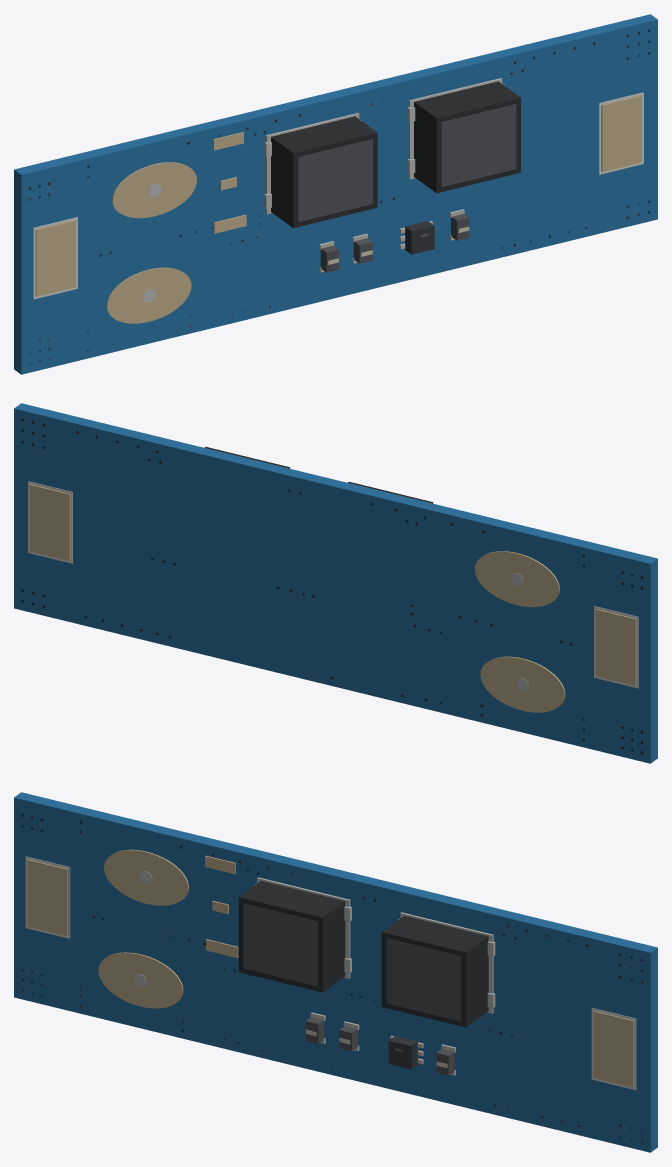
The model's file is HXYP-1S-4012A_Replica_Blender_Meters.glb.
3 renders of one model, top to bottom at view 1: azimuth 30°, elevation 25°; view 2: azimuth 150°, elevation 25°; view 3: azimuth 330°, elevation 25°, orthographic.
Visible parts, largest first — view 1: PCB_40x12x0p8, Q2_body, Q1_body, Q2_top_shading, Q1_top_shading, front_Pplus_pad, front_Pminus_pad, front_Bplus_pad, front_Bminus_pad, U1_body, Q1_thermal_land, Q2_thermal_land; view 2: PCB_40x12x0p8, back_Pplus_pad, back_Pminus_pad, back_Bplus_pad, back_Bminus_pad; view 3: PCB_40x12x0p8, Q2_body, Q1_body, Q2_top_shading, Q1_top_shading, front_Pplus_pad, front_Pminus_pad, front_Bminus_pad, front_Bplus_pad, U1_body, Q2_thermal_land, Q1_thermal_land.
Part boxes in pixels (x1,y1,x2,y2): PCB_40x12x0p8: (14,14,657,374); Q2_body: (414,81,520,193); Q1_body: (271,116,377,228); Q2_top_shading: (441,104,516,187); Q1_top_shading: (298,139,372,222); front_Pplus_pad: (106,267,191,323); front_Pminus_pad: (112,162,196,218); front_Bplus_pad: (35,220,76,296); front_Bminus_pad: (601,95,641,171); U1_body: (405,221,434,254); Q1_thermal_land: (265,113,359,214); Q2_thermal_land: (409,78,502,179); PCB_40x12x0p8: (14,403,657,763); back_Pplus_pad: (480,656,565,712); back_Pminus_pad: (475,551,559,607); back_Bplus_pad: (595,609,636,685); back_Bminus_pad: (30,484,70,560); PCB_40x12x0p8: (14,792,657,1152); Q2_body: (381,915,488,1027); Q1_body: (238,881,345,992); Q2_top_shading: (386,938,461,1021); Q1_top_shading: (243,903,317,986); front_Pplus_pad: (98,952,183,1008); front_Pminus_pad: (104,849,188,905); front_Bminus_pad: (593,1011,633,1087); front_Bplus_pad: (27,859,67,935); U1_body: (388,1036,418,1069); Q2_thermal_land: (400,912,493,1013); Q1_thermal_land: (257,877,350,978).
Bounding box in the file's own units: 0.04 × 0.012 × 0.0035.
